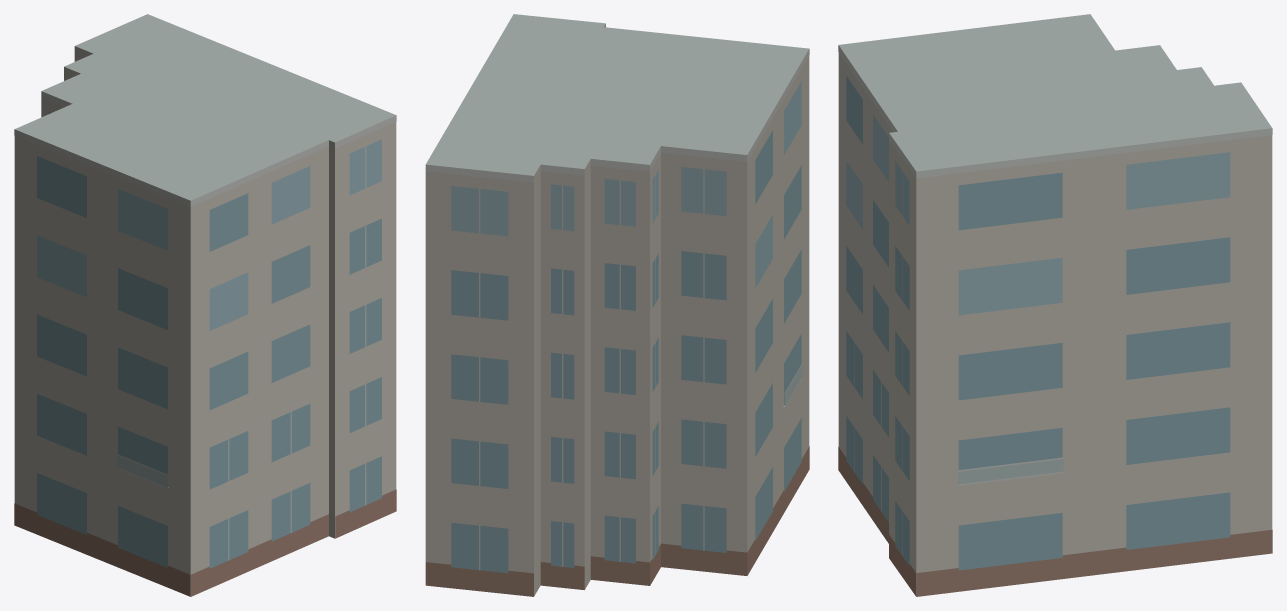
Rendered from survey-upis-32936048.glb.
The picture shows the model from 3 angles, left to right: view 1: azimuth 30°, elevation 25°; view 2: azimuth 150°, elevation 25°; view 3: azimuth 270°, elevation 25°; orthographic projection. The views are drawn at different scales.
Parts seen in each view (by area): view 1: survey-upis-32936048.tmp; view 2: survey-upis-32936048.tmp; view 3: survey-upis-32936048.tmp.
Boxes of the visible parts, x1,y1,x2,y2 form: survey-upis-32936048.tmp: [14, 14, 396, 596]; survey-upis-32936048.tmp: [425, 14, 809, 596]; survey-upis-32936048.tmp: [838, 14, 1272, 596].
Size of the model in its own units: 12.13 by 15.25 by 14.12.
